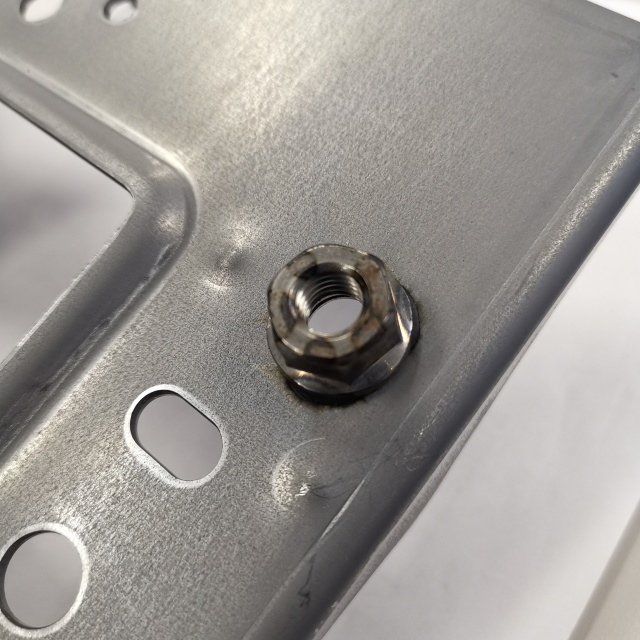dog: (263, 239, 425, 410)
